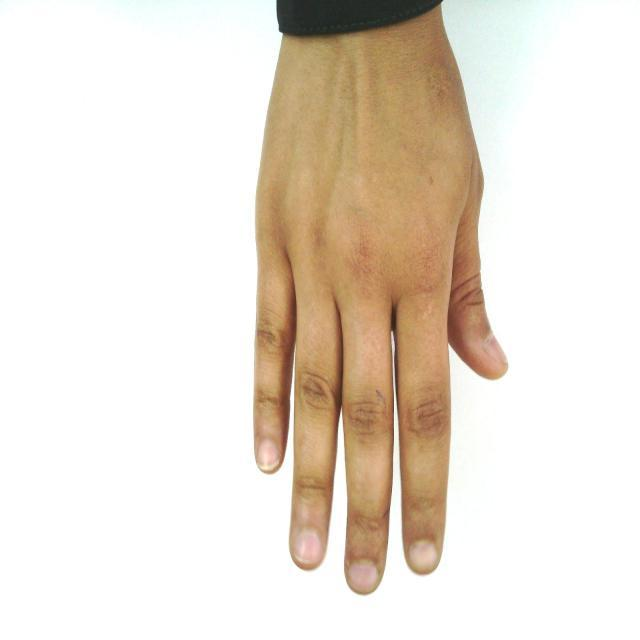Fingernail: (349, 562, 378, 592), (410, 541, 437, 573), (296, 531, 320, 560), (486, 336, 507, 367), (259, 441, 278, 467)
